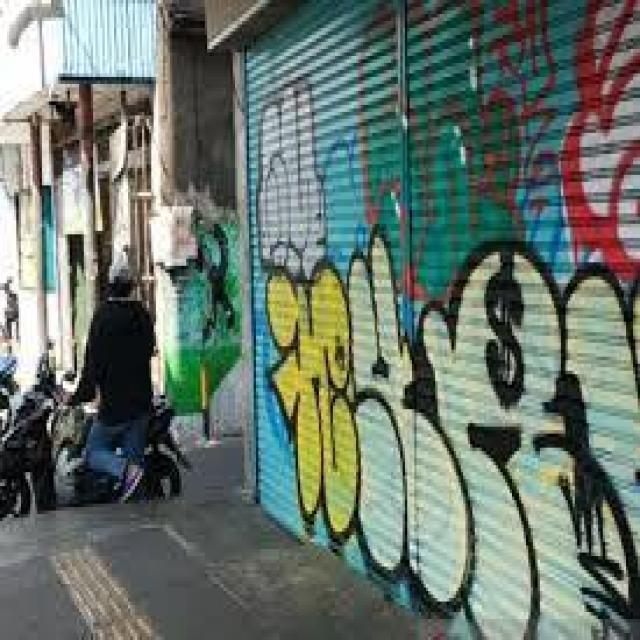nonspitting: (263, 228, 640, 636), (360, 0, 522, 306), (561, 0, 640, 283), (256, 77, 326, 279)
